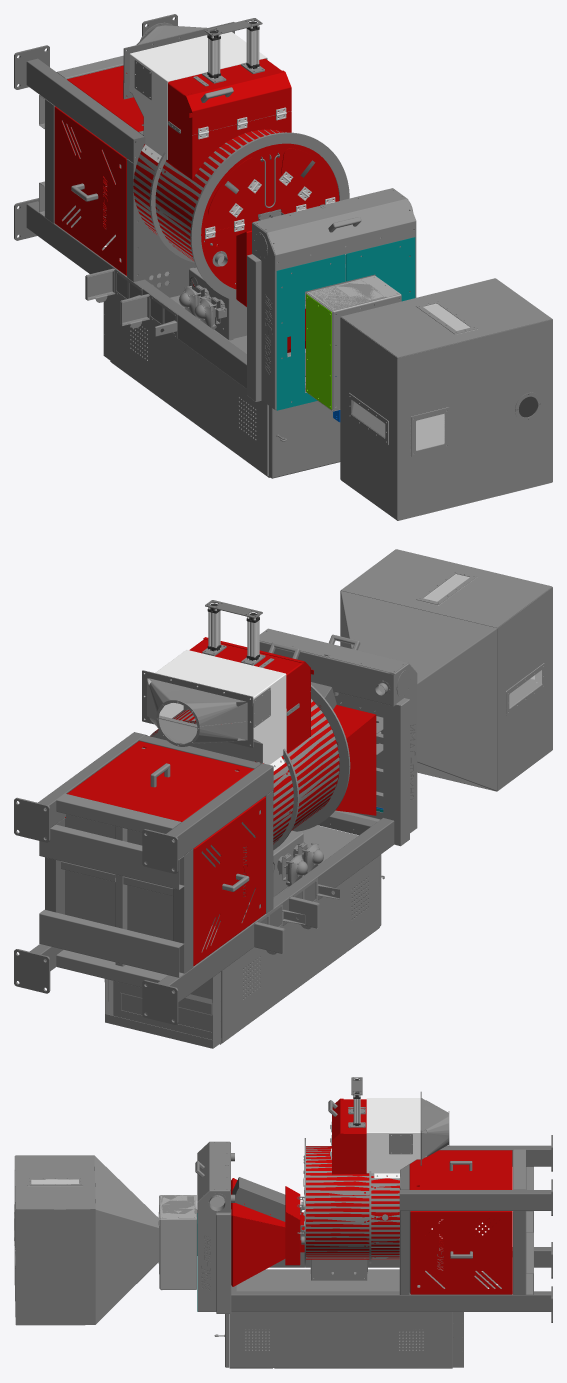
File: протравитель-айвери-полная.glb
3 renders of one model, top to bottom at view 1: azimuth 30°, elevation 25°; view 2: azimuth 150°, elevation 25°; view 3: azimuth 270°, elevation 25°, orthographic. The views are drawn at different scales.
Parts seen in each view (by area): view 1: Крышка (×2), Стенка бункер (×2), Шкаф управления, Пластина под крышку боковая, Крышка верх, Обечайка_02, Крышка аспирация, Труба 120х60х3. L = 2019 мм, Окно выгрузки, Пластина (×2), Стенка (×2), Элемент облицовки вариант 2(Вторая сторона) (+21 smaller); view 2: =>[0:1:1:173], Шкаф управления, Стенка бункер (×2), =>[0:1:1:19] (×2), Пластина под крышку боковая, Пластина под крышку, Стенка (×3), Труба 120х60х3. L = 2019 мм, Пластина опорная (×4), Обечайка_02, Окно выгрузки, Пол (×2) (+19 smaller); view 3: Шкаф управления, Стенка бункер (×2), Пластина под крышку боковая, Труба 120х60х3. L = 2019 мм (×2), =>[0:1:1:173], Обечайка_02, Стенка (×4), Труба 120х60х3. L = 750 мм (×2), Пластина под крышку, Окно выгрузки, Элемент облицовки вариант 2(Вторая сторона), Элемент корпуса (+15 smaller).
Part boxes in pixels (x1,y1,x2,y2): Крышка (×2): (184, 70, 552, 520); Стенка бункер (×2): (340, 278, 551, 520); Шкаф управления: (103, 294, 340, 478); Пластина под крышку боковая: (54, 106, 126, 275); Крышка верх: (276, 237, 415, 410); Обечайка_02: (155, 129, 349, 301); Крышка аспирация: (253, 188, 415, 270); Труба 120х60х3. L = 2019 мм: (26, 201, 276, 410); Окно выгрузки: (129, 32, 267, 162); Пластина (×2): (134, 111, 291, 297); Стенка (×2): (166, 58, 399, 310); Элемент облицовки вариант 2(Вторая сторона): (247, 254, 282, 409); =>[0:1:1:173]: (340, 591, 497, 791); Шкаф управления: (104, 825, 384, 1048); Стенка бункер (×2): (341, 549, 552, 790); =>[0:1:1:19] (×2): (39, 824, 184, 977); Пластина под крышку боковая: (193, 796, 265, 966); Пластина под крышку: (67, 741, 253, 821); Стенка (×3): (189, 639, 376, 815); Труба 120х60х3. L = 2019 мм: (158, 818, 394, 1002); Пластина опорная (×4): (14, 797, 178, 1024); Обечайка_02: (287, 685, 350, 831); Окно выгрузки: (148, 650, 286, 770); Пол (×2): (65, 814, 173, 940); Шкаф управления: (214, 1269, 463, 1368); Стенка бункер (×2): (15, 1155, 95, 1325); Пластина под крышку боковая: (410, 1211, 512, 1294); Труба 120х60х3. L = 2019 мм (×2): (198, 1247, 551, 1311); =>[0:1:1:173]: (94, 1156, 158, 1324); Обечайка_02: (304, 1138, 369, 1267); Стенка (×4): (160, 1099, 368, 1286); Труба 120х60х3. L = 750 мм (×2): (400, 1145, 551, 1210); Пластина под крышку: (409, 1150, 512, 1189); Окно выгрузки: (366, 1098, 420, 1178); Элемент облицовки вариант 2(Вторая сторона): (197, 1209, 231, 1313); Элемент корпуса: (159, 1207, 196, 1289).
Size of the model in its own units: 0.9273 by 1.84 by 3.38.
